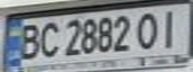2: (60, 16, 84, 57), (112, 11, 136, 52)
8: (78, 15, 100, 55), (97, 14, 118, 54)
B: (15, 20, 42, 61)
C: (33, 19, 63, 58)
I: (154, 7, 187, 48)
O: (133, 9, 163, 51)
